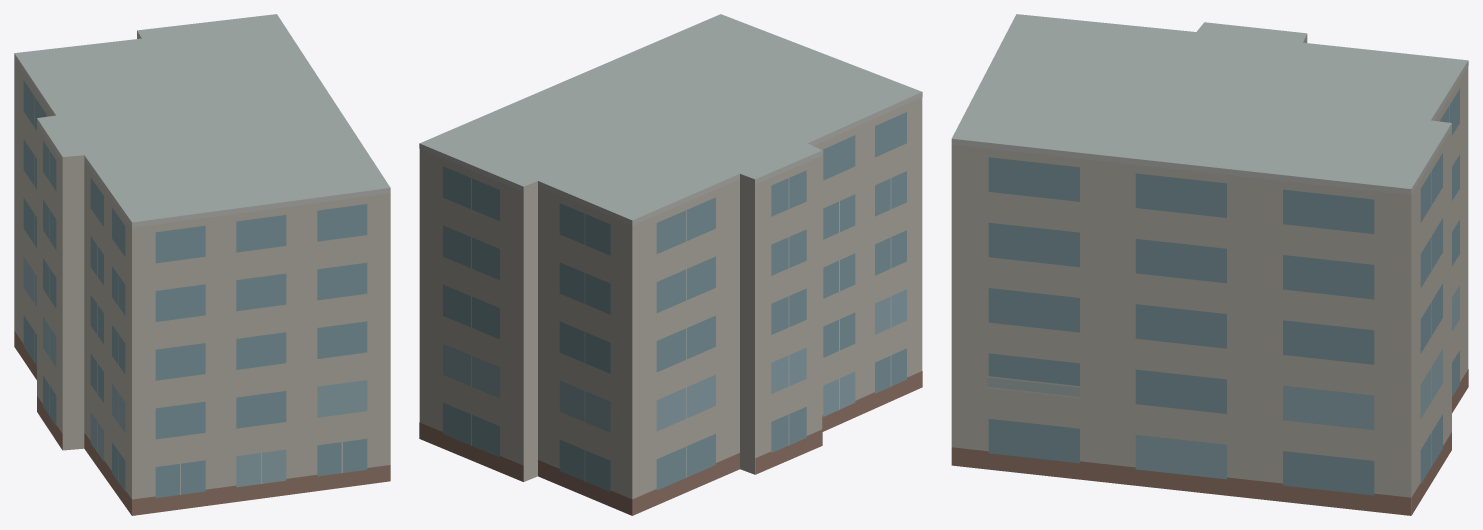
Rendered from survey-upis-32966887.glb.
The picture shows the model from 3 angles, left to right: view 1: azimuth 30°, elevation 25°; view 2: azimuth 150°, elevation 25°; view 3: azimuth 270°, elevation 25°; orthographic projection. The views are drawn at different scales.
Parts seen in each view (by area): view 1: survey-upis-32966887.tmp; view 2: survey-upis-32966887.tmp; view 3: survey-upis-32966887.tmp.
Boxes of the visible parts, box(x1,y1,x2,y2) form: survey-upis-32966887.tmp: box(14, 14, 390, 515); survey-upis-32966887.tmp: box(419, 14, 922, 515); survey-upis-32966887.tmp: box(951, 14, 1468, 515).
Size of the model in its own units: 15.52 by 13.5 by 19.36.
